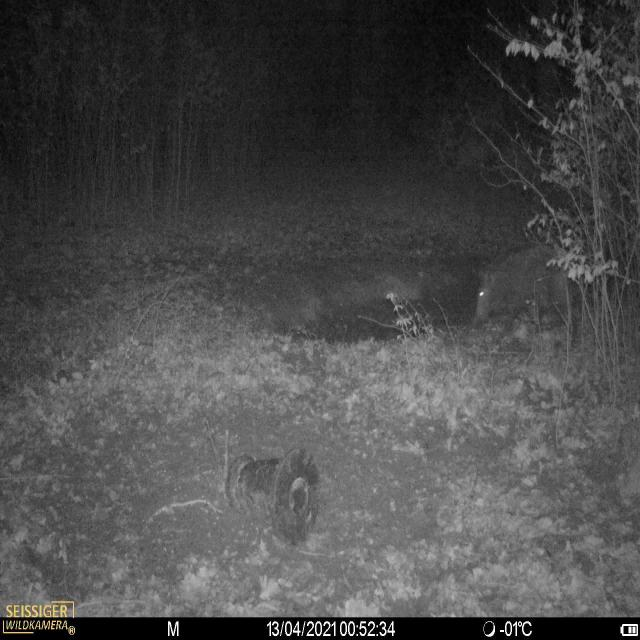wild boar: (473, 238, 575, 329)
